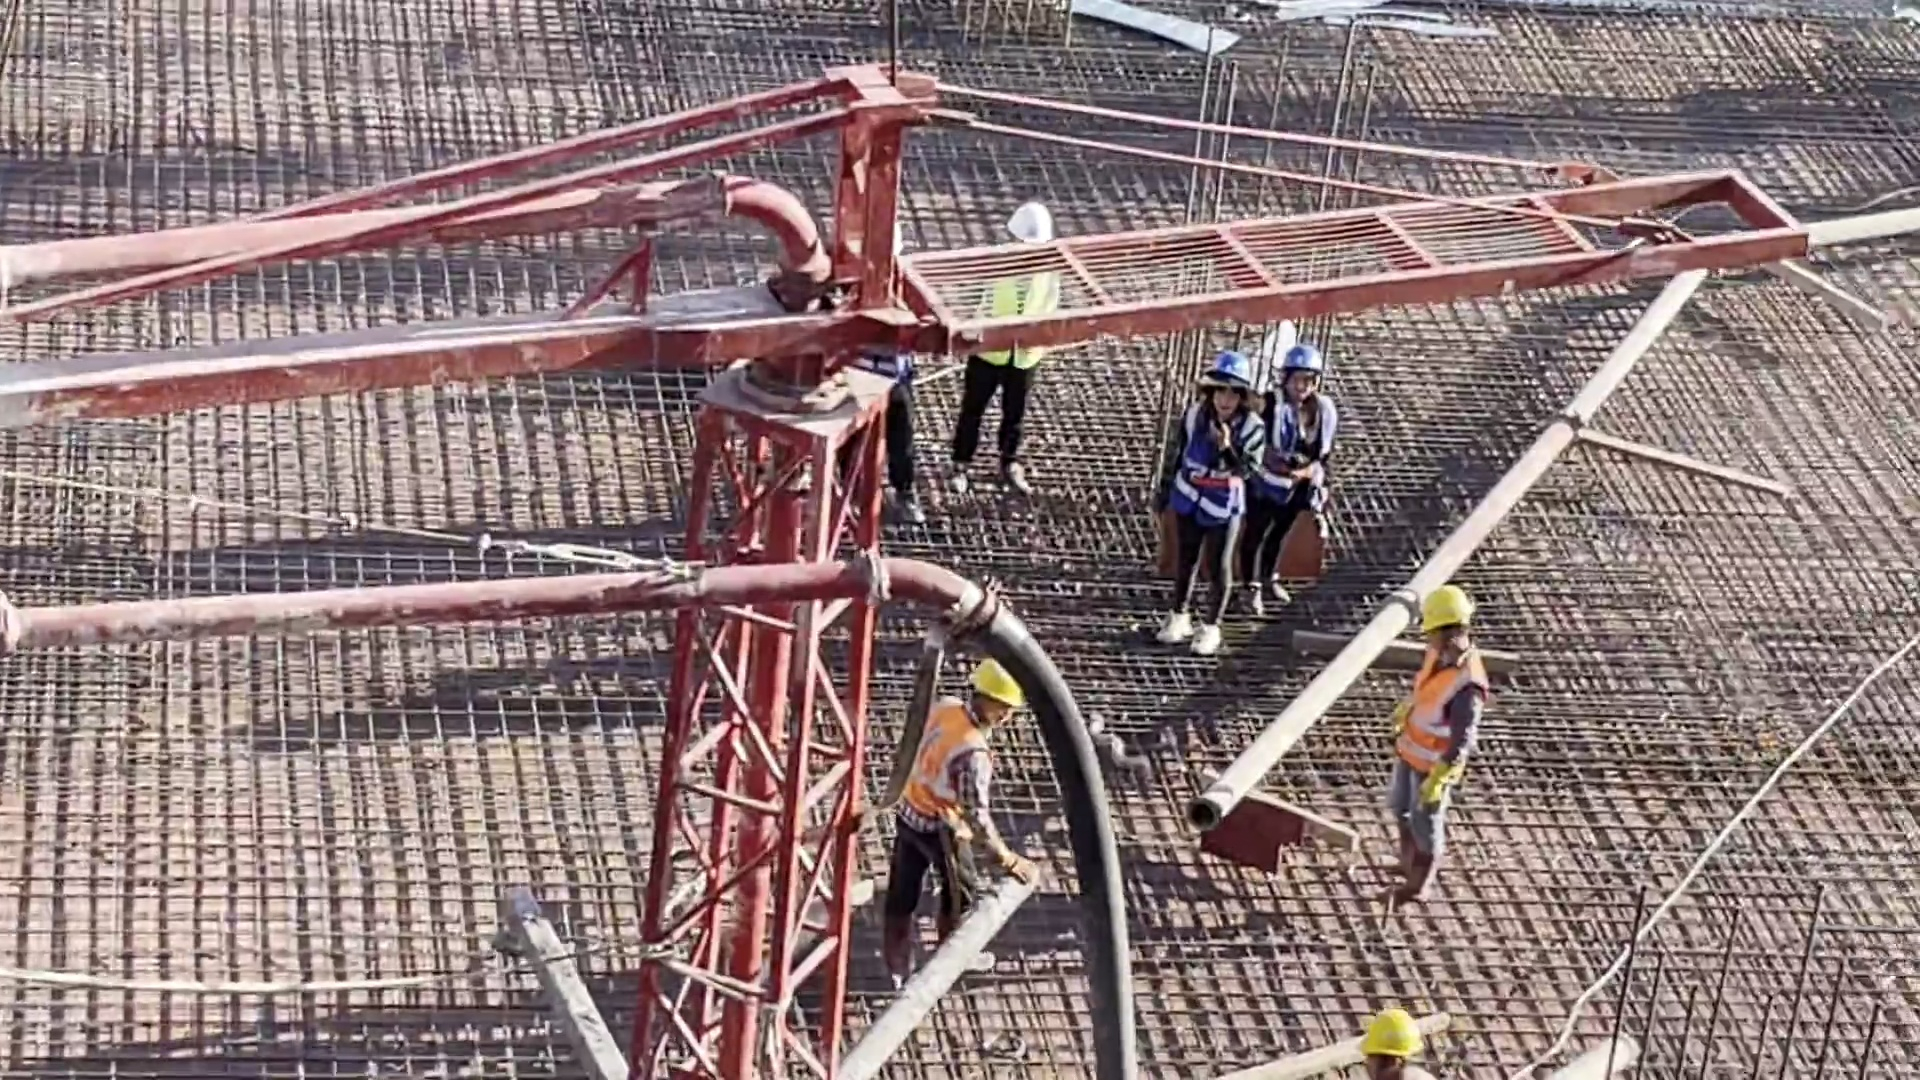helmet: (1007, 200, 1057, 244), (1419, 588, 1475, 627), (1366, 1014, 1415, 1054), (977, 661, 1020, 699), (1213, 352, 1251, 391), (1289, 350, 1330, 380)
person: (878, 654, 1046, 987), (1371, 585, 1491, 923), (1157, 345, 1269, 650), (945, 197, 1055, 506), (1226, 343, 1344, 620), (837, 335, 937, 523), (1336, 1004, 1441, 1080)
vest: (912, 707, 992, 825), (1407, 660, 1489, 771), (1169, 404, 1248, 517), (988, 269, 1050, 365), (1273, 400, 1330, 483)
